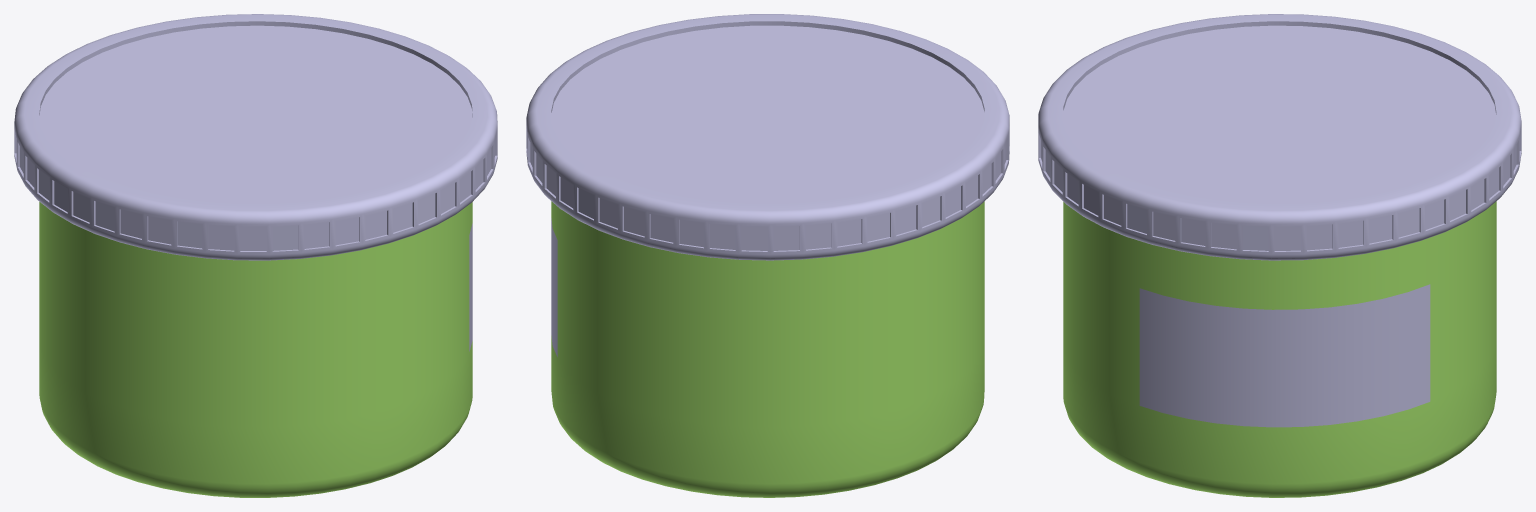
The model's file is Prodotto 1.fbx.
The picture shows the model from 3 angles, left to right: view 1: azimuth 30°, elevation 25°; view 2: azimuth 150°, elevation 25°; view 3: azimuth 270°, elevation 25°; orthographic projection.
Visible parts, largest first — view 1: Cylinder; view 2: Cylinder; view 3: Cylinder.
Boxes of the visible parts, x1,y1,x2,y2 form: Cylinder: (14,14,497,497); Cylinder: (526,14,1009,497); Cylinder: (1038,14,1521,497).
Bounding box in the file's own units: 10.63 × 7.32 × 10.62.
